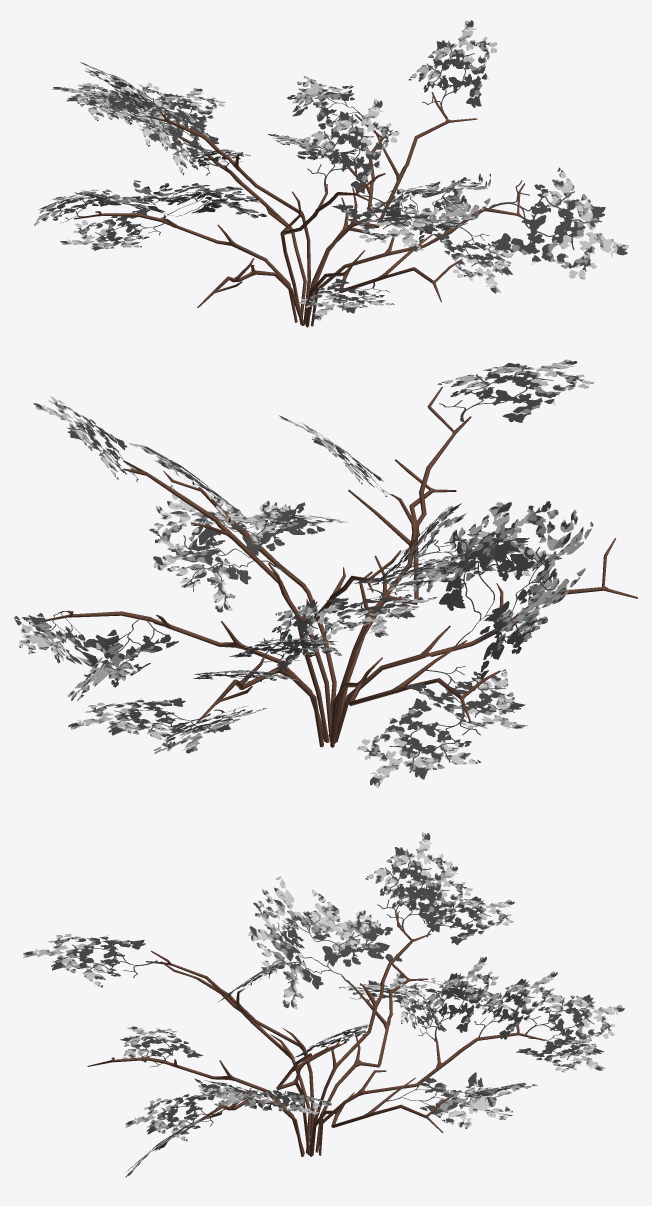
The model's file is PW_M_Shrub_02.fbx.
3 views of the same model, one above another, from view 1: azimuth 30°, elevation 25°; view 2: azimuth 150°, elevation 25°; view 3: azimuth 270°, elevation 25° (orthographic). The views are drawn at different scales.
Visible parts, largest first — view 1: PW_DD_shrub_02_LOD0; view 2: PW_DD_shrub_02_LOD0; view 3: PW_DD_shrub_02_LOD0.
Boxes of the visible parts, left/top/right/bottom form: PW_DD_shrub_02_LOD0: left=34, top=20, right=628, bottom=327; PW_DD_shrub_02_LOD0: left=14, top=359, right=637, bottom=788; PW_DD_shrub_02_LOD0: left=23, top=832, right=624, bottom=1177.
Size of what is drawn, in the model's own units: 1.4 by 0.7576 by 1.71.
2 materials, 1 textured.
